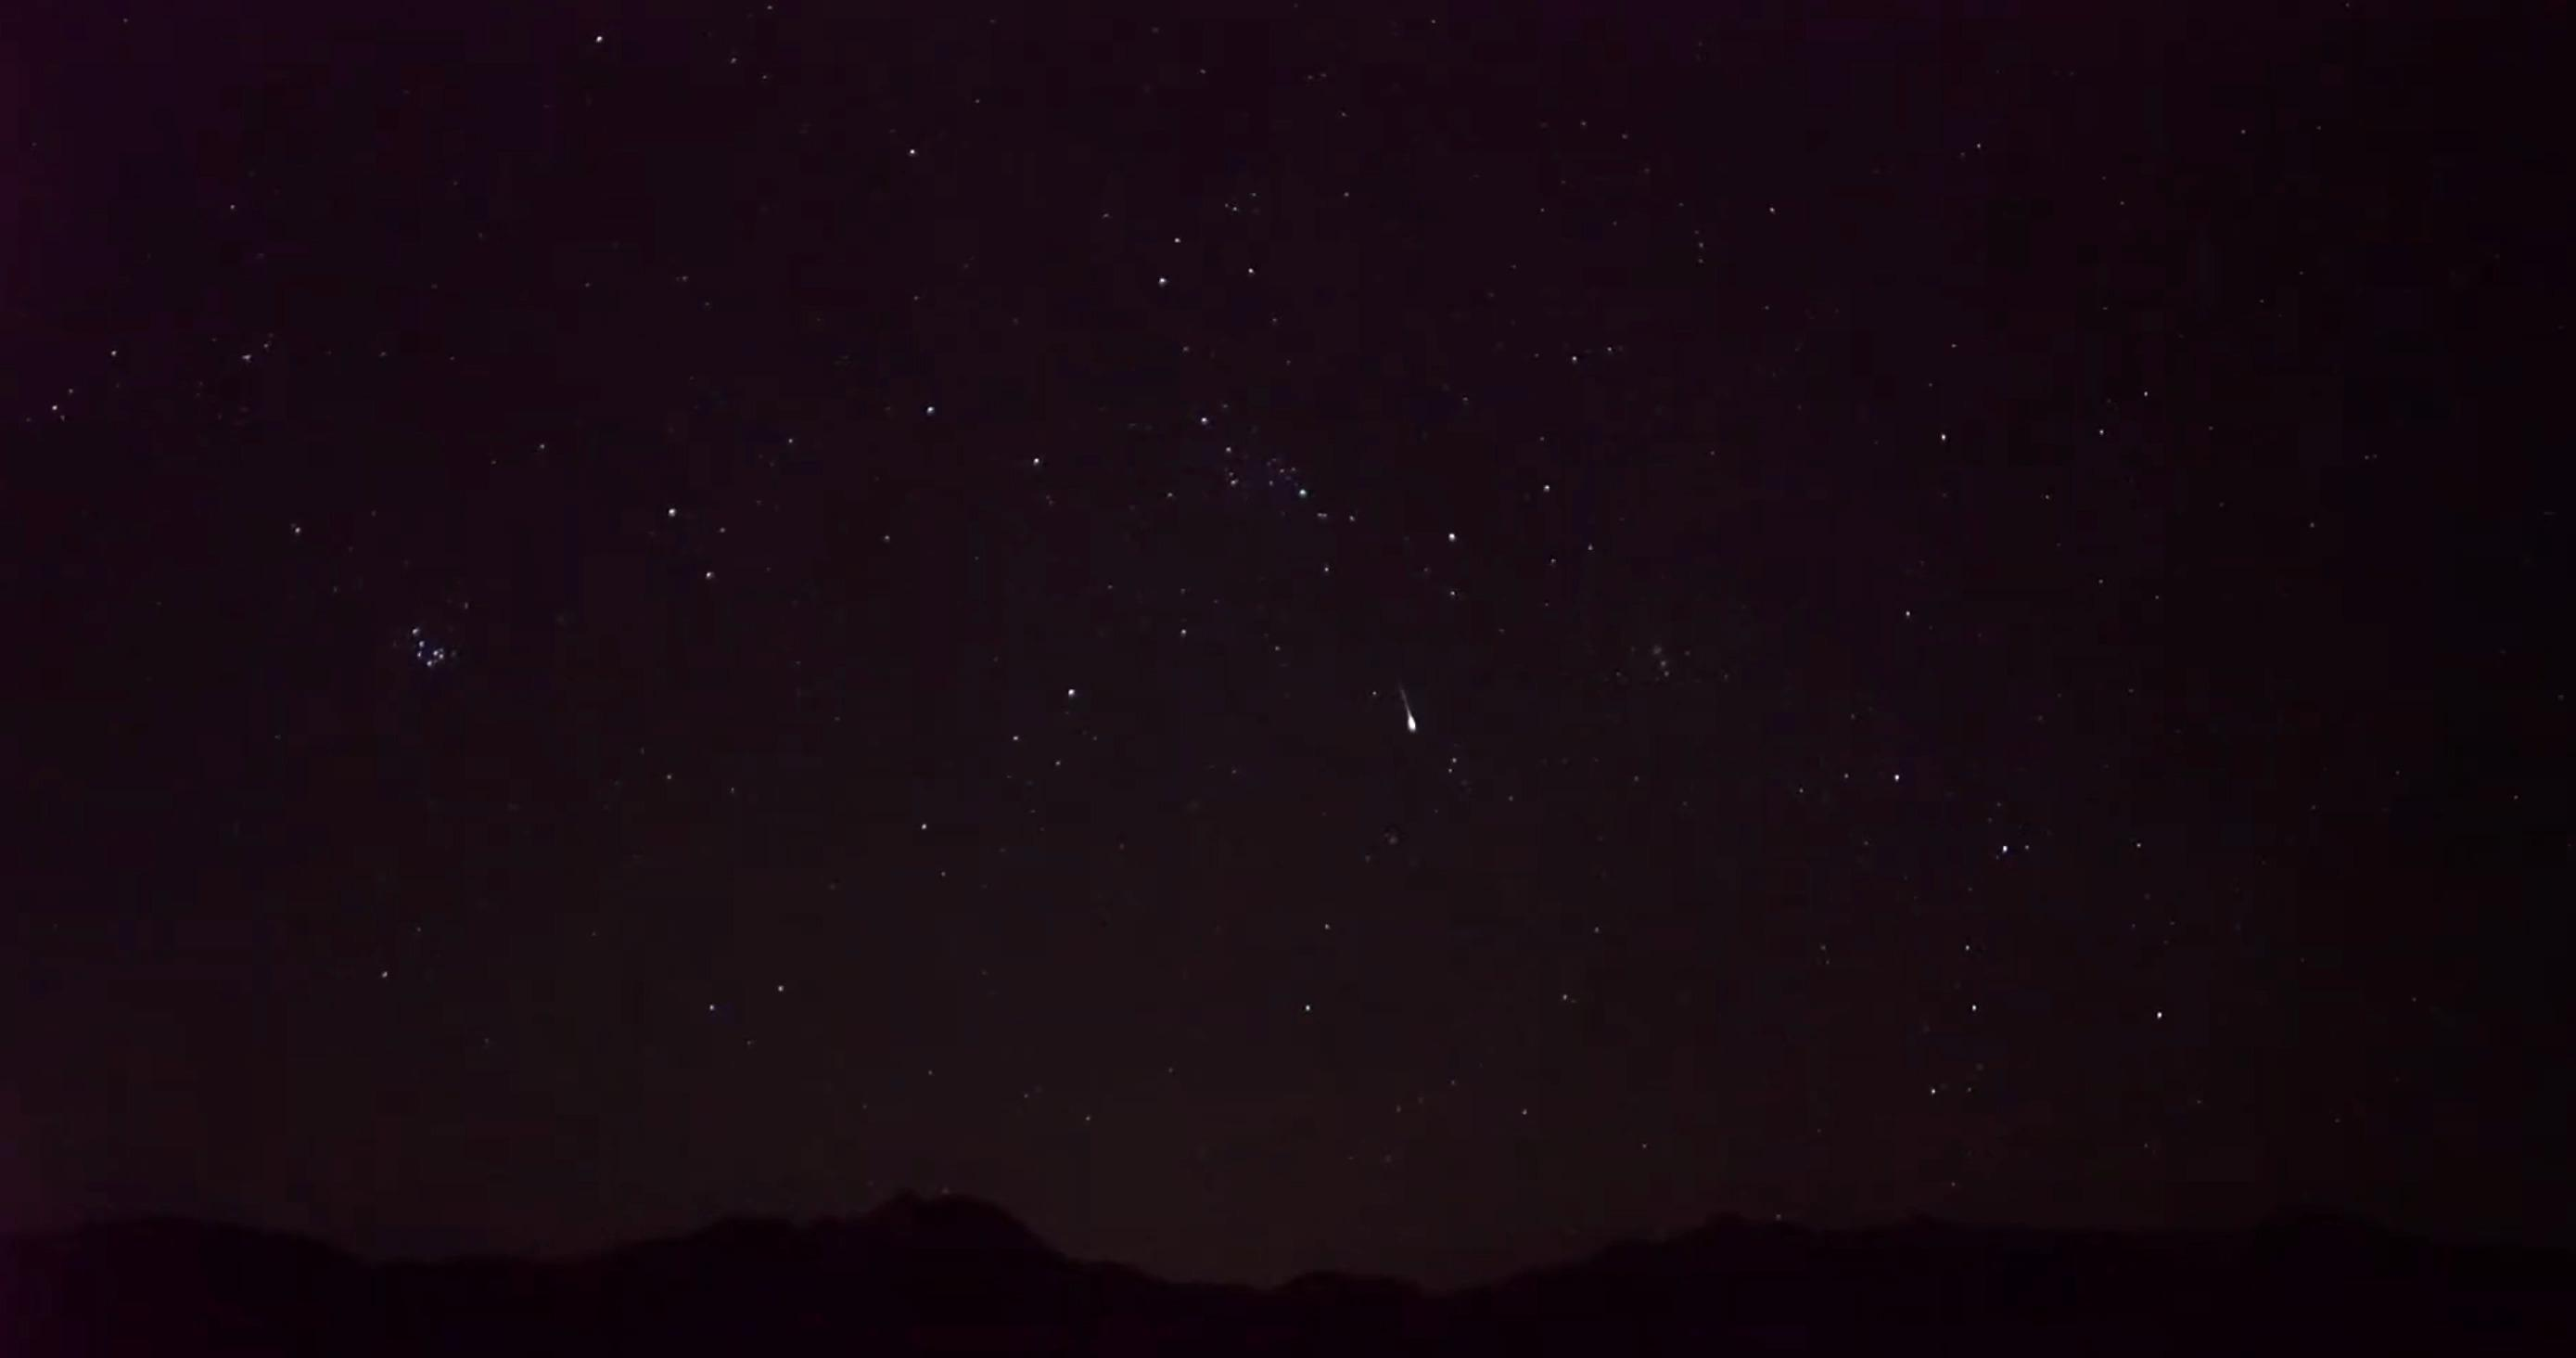meteorite: (1346, 673, 1474, 750)
